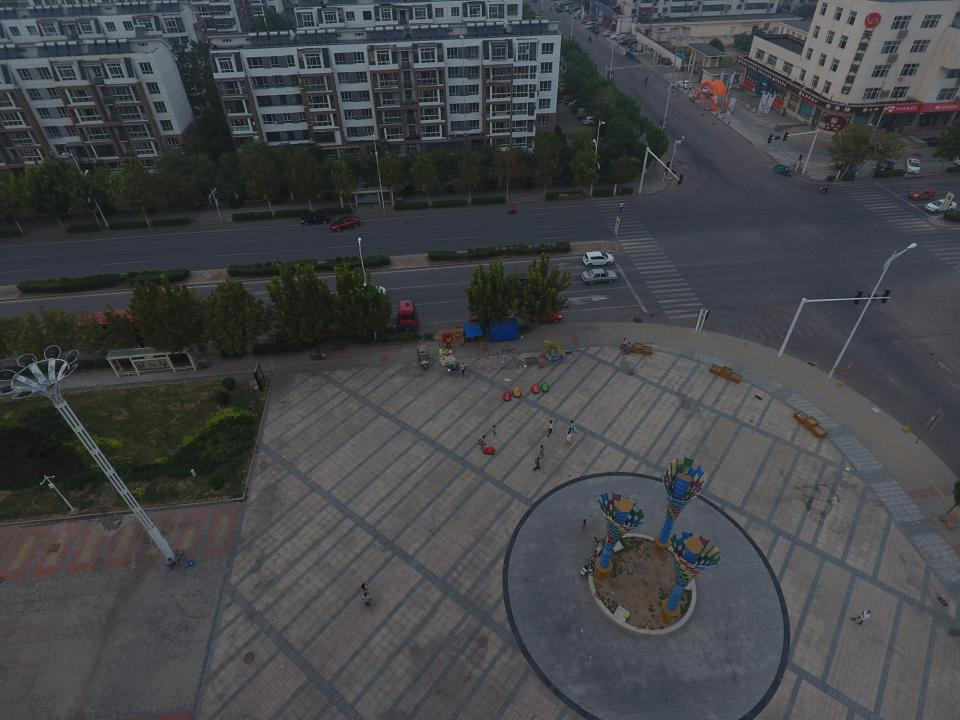car: (924, 196, 956, 213), (582, 269, 618, 284), (582, 250, 614, 266), (326, 216, 359, 231), (302, 212, 330, 224), (909, 185, 934, 198), (905, 156, 919, 173), (876, 160, 894, 170), (679, 80, 693, 88)
truck: (41, 300, 418, 336)
